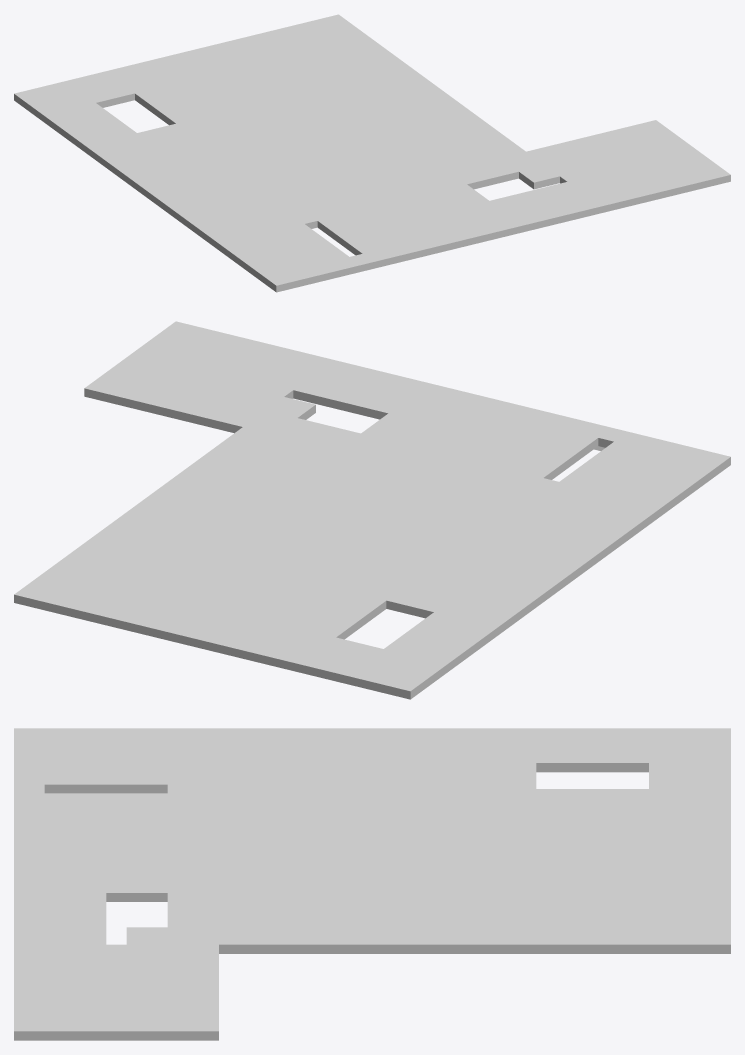
Rendered from FLOOR2.fbx.
3 views of the same model, one above another, from view 1: azimuth 30°, elevation 25°; view 2: azimuth 150°, elevation 25°; view 3: azimuth 270°, elevation 25° (orthographic). The views are drawn at different scales.
Visible parts, largest first — view 1: Cube; view 2: Cube; view 3: Cube.
Part boxes in pixels (left/top/right/bottom): Cube: left=14, top=14, right=730, bottom=292; Cube: left=14, top=321, right=730, bottom=699; Cube: left=14, top=728, right=730, bottom=1040.
Size of the model in its own units: 7000 by 100 by 7000.
